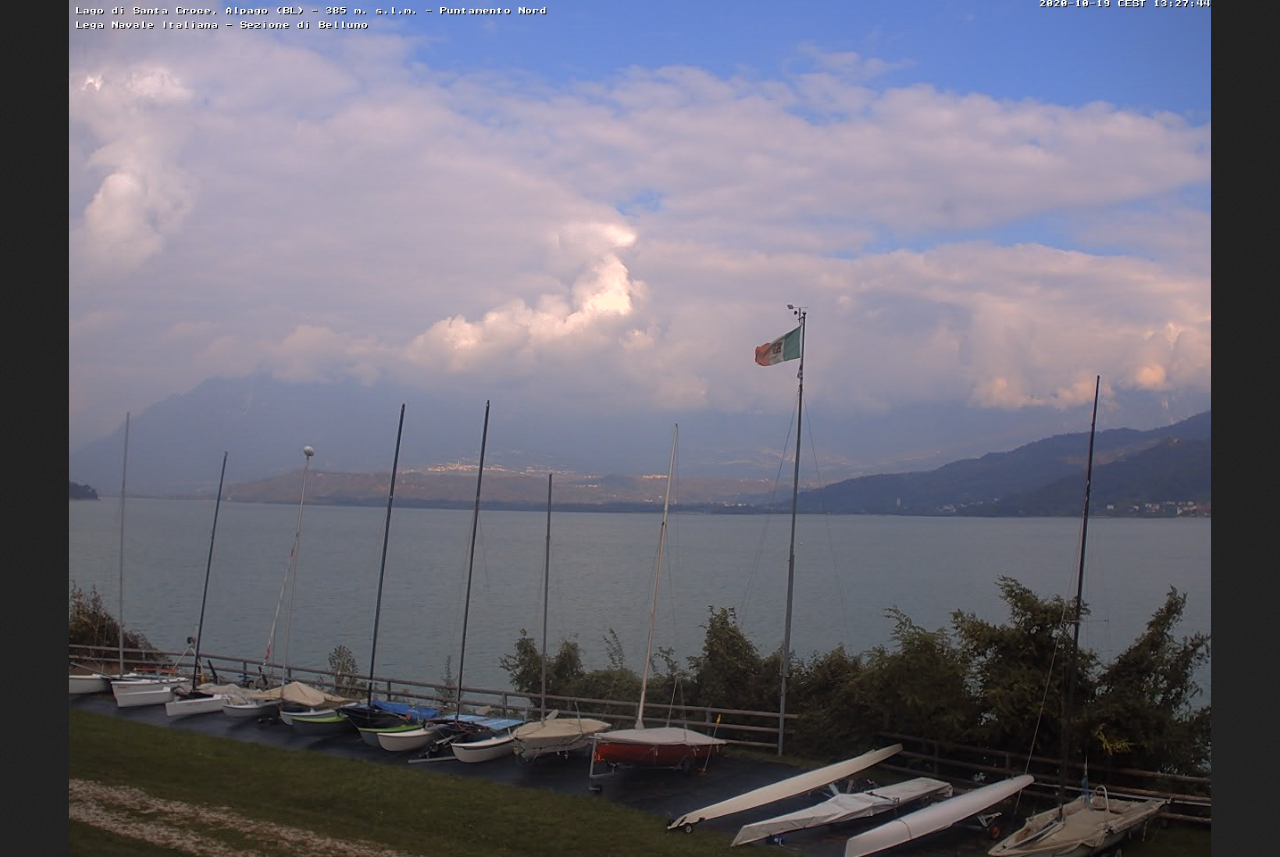maybe: (750, 316, 808, 369)
